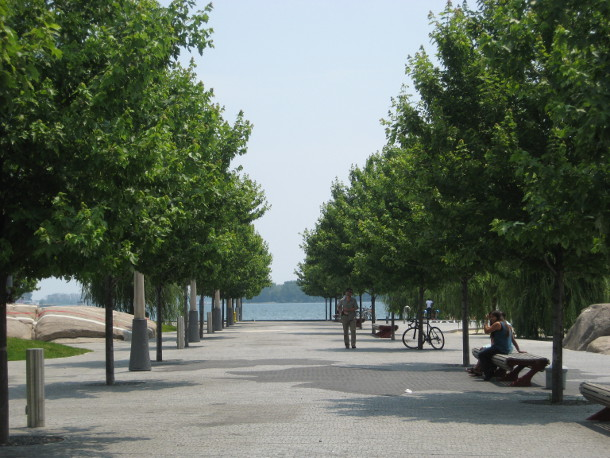tree: (454, 2, 610, 413)
